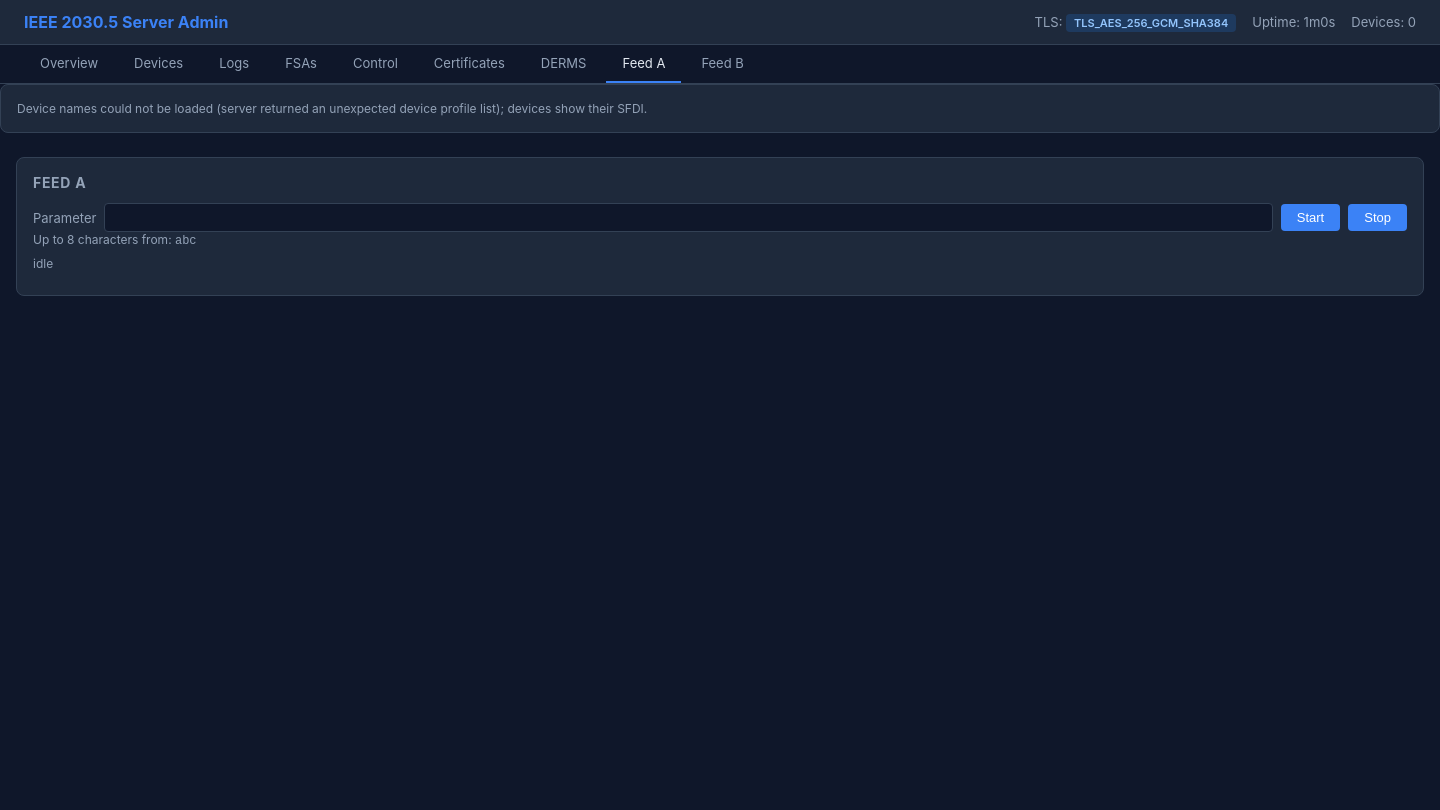
it: AdminShell stream panels › closes the stream when the viewer changes tab
Type "abc" into the field labelled "Parameter" at (689, 218), box x1=104 y1=203 x2=1273 y2=232
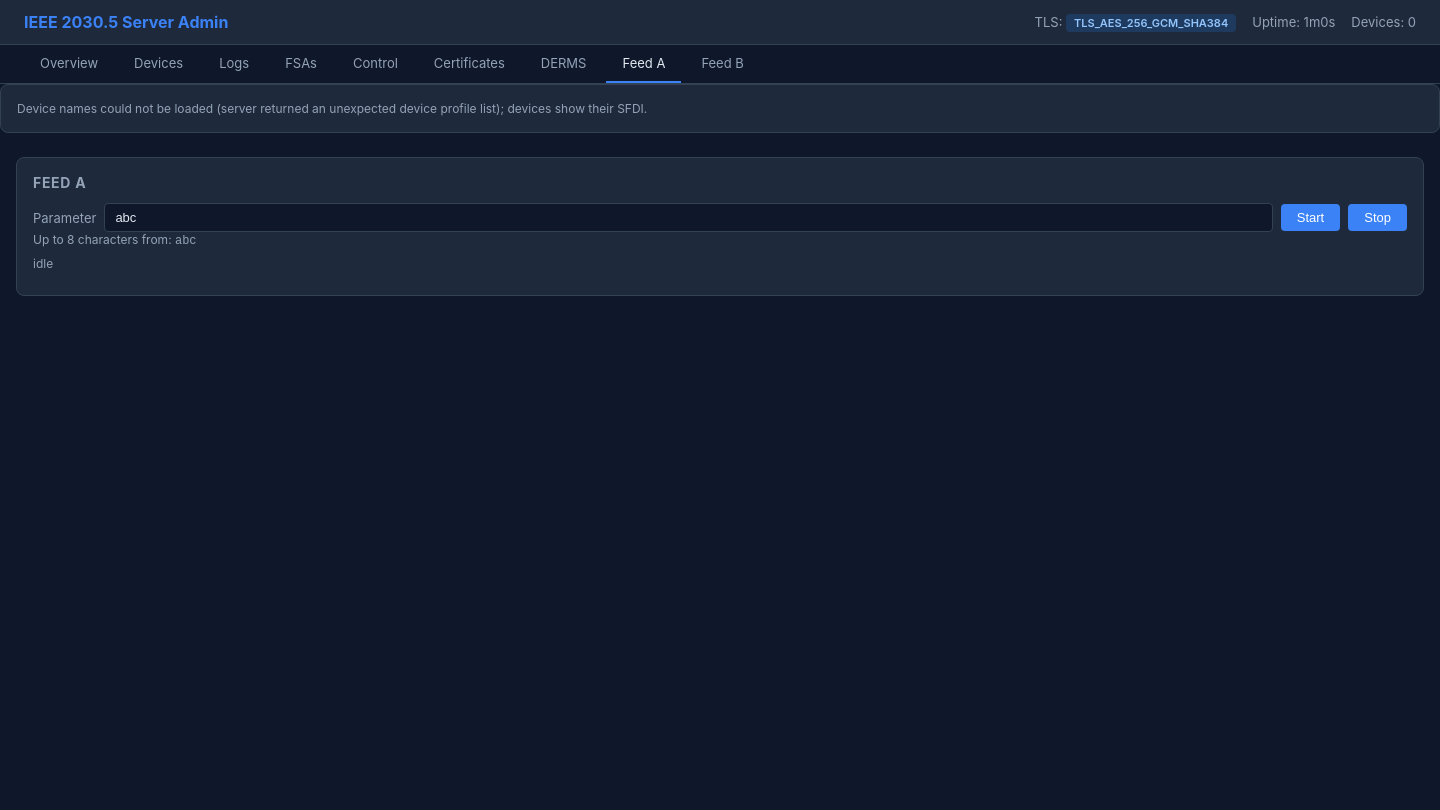
Click the button "Start" at (1311, 218), box x1=1281 y1=204 x2=1340 y2=231
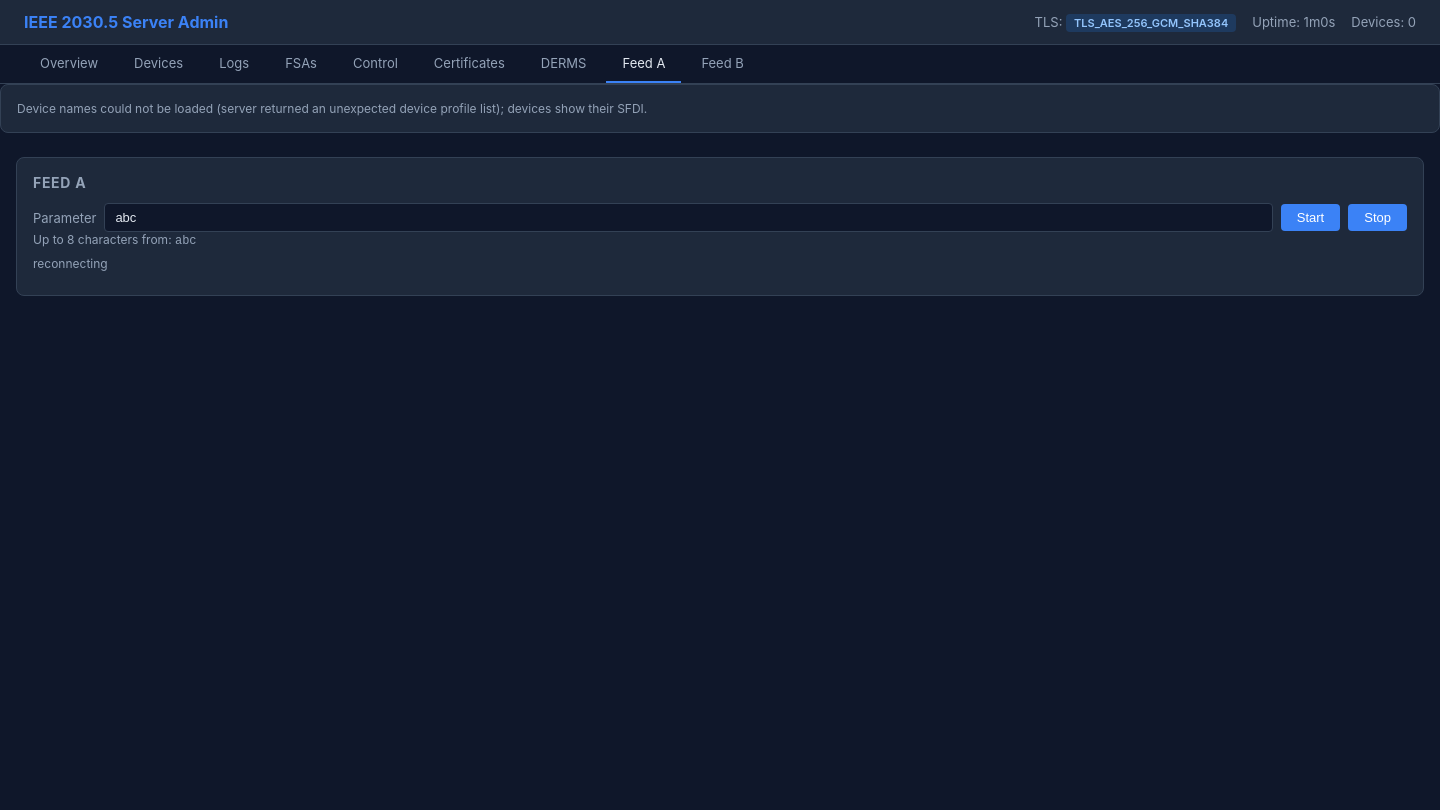
Click the link with test id "tab-overview" at (69, 63), box x1=40 y1=55 x2=98 y2=71
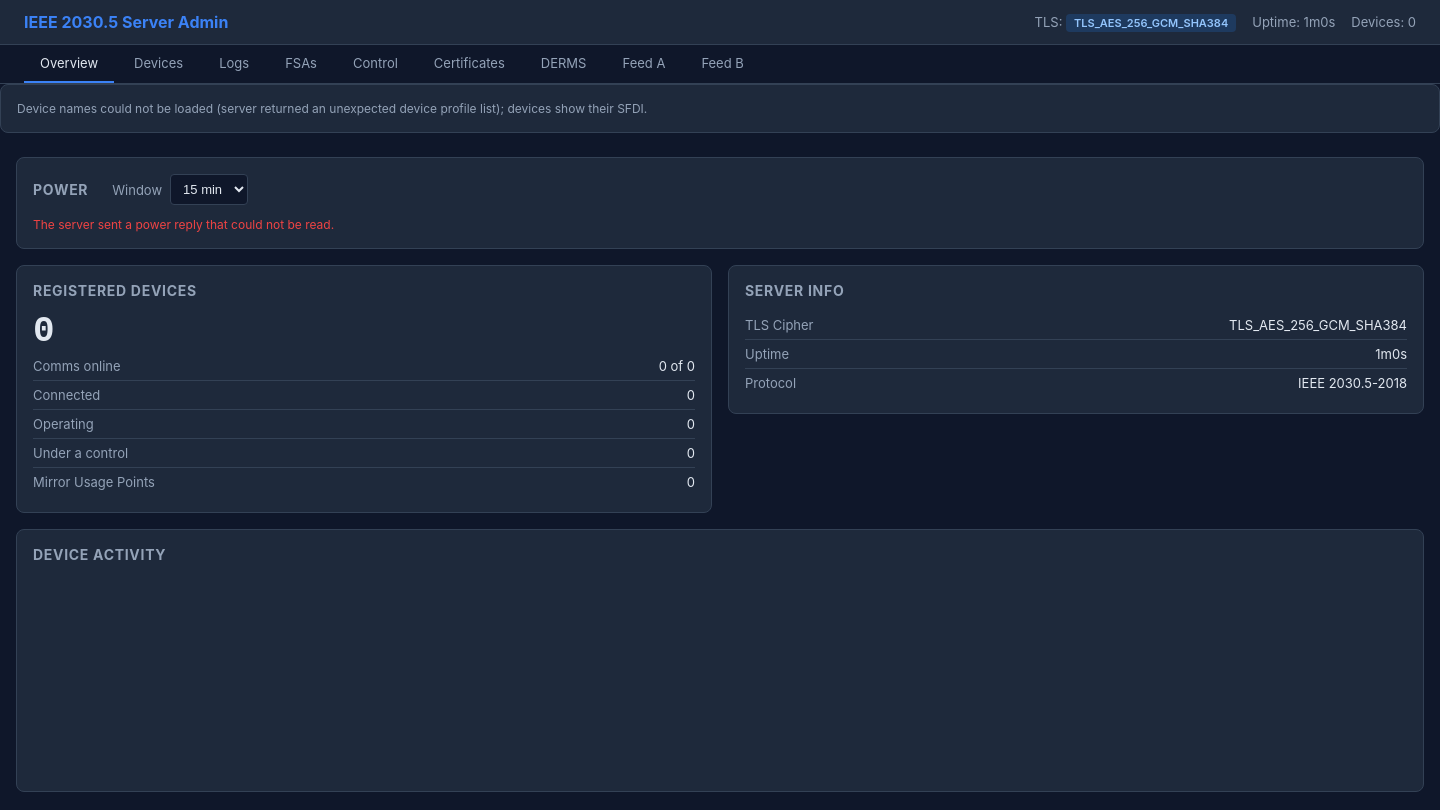
expect the element with test id "stream-panel" is gone: met
